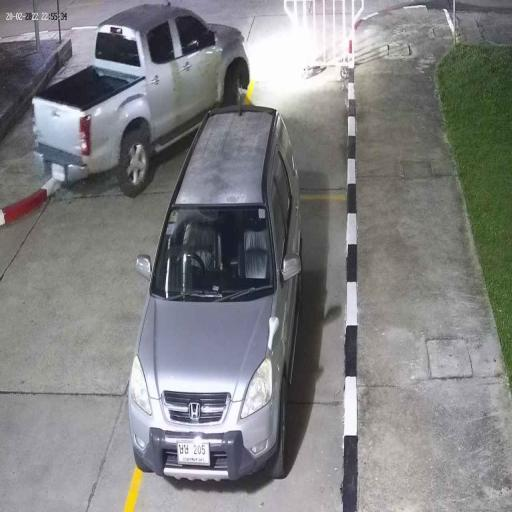car: (130, 103, 303, 486), (31, 0, 253, 196)
